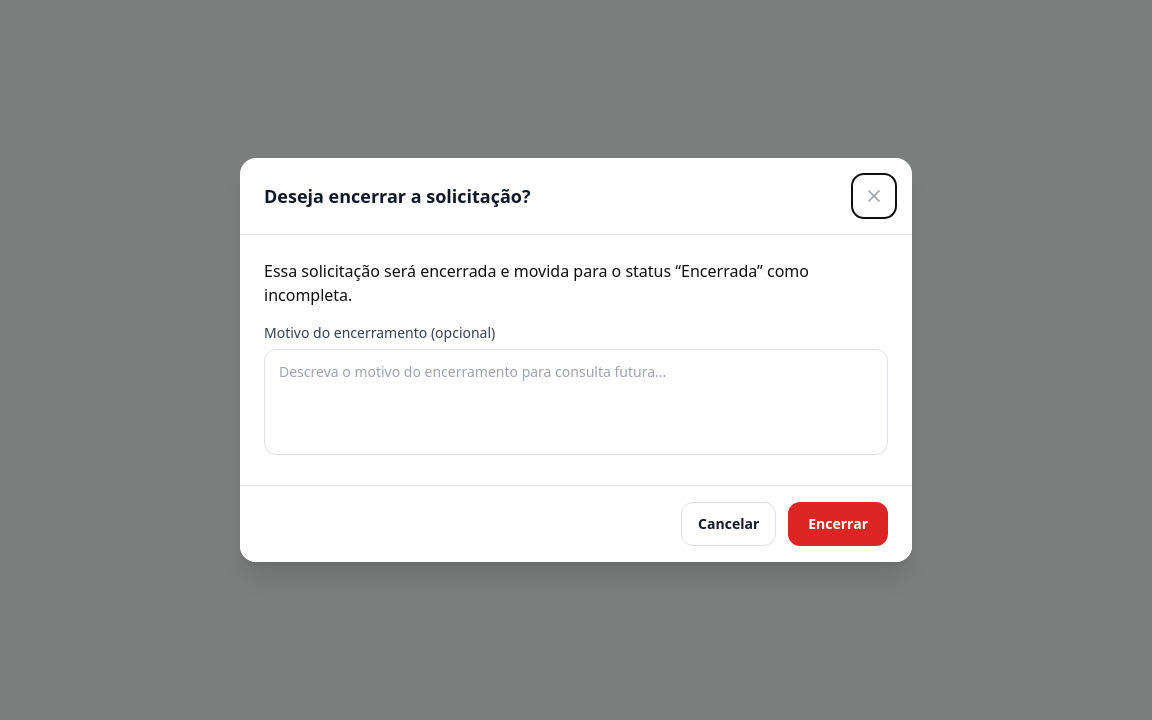
it: CloseRequestModal › mostra o erro da API quando o encerramento falha
This screenshot has width=1152, height=720.
Click the button "Encerrar" at (838, 524), box [788,502,888,546]
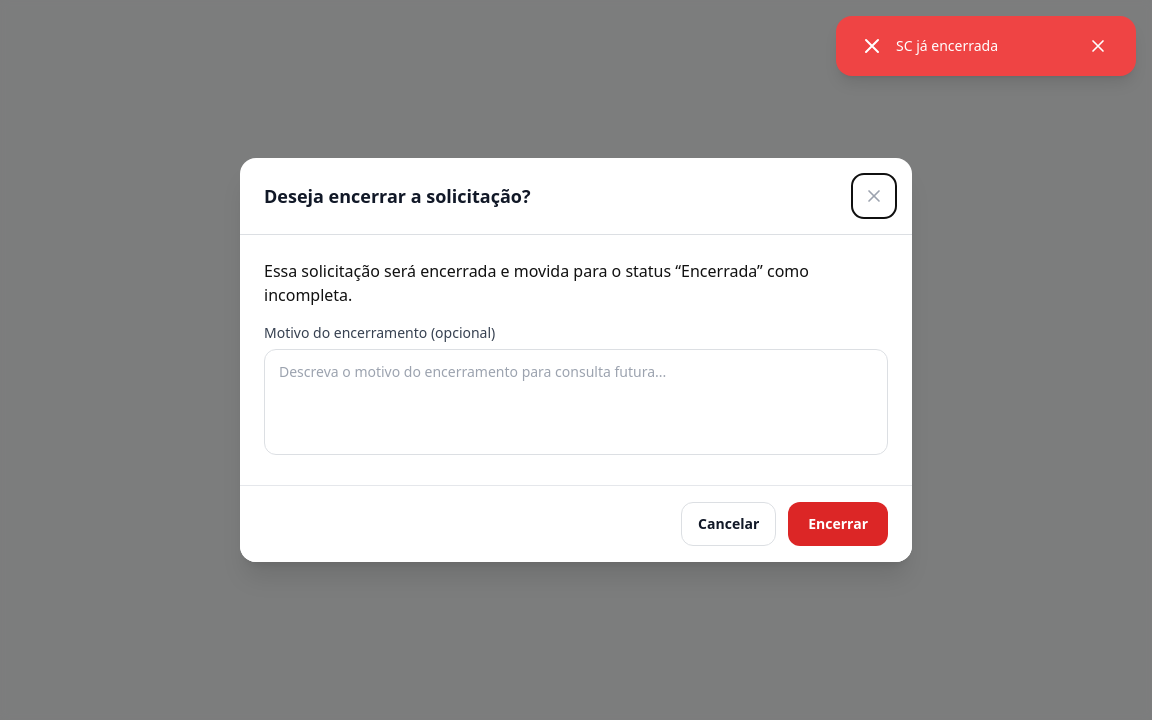
expect the text "SC já encerrada" is shown: met, box [896,36,998,55]
